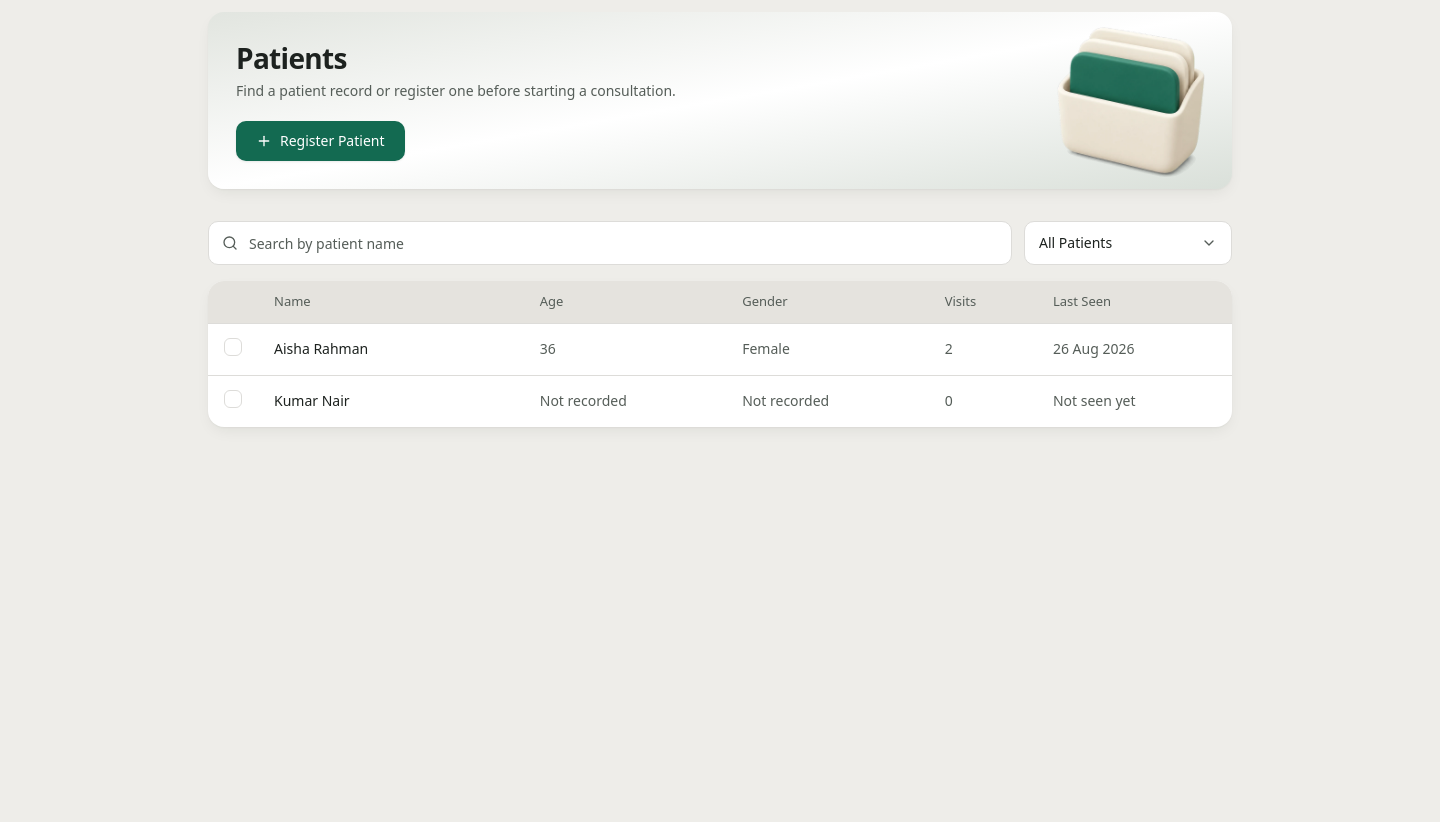
Test: PatientList › supports selecting several patient rows
The width and height of the screenshot is (1440, 822).
Expected: the link "Aisha Rahman" is shown, [274, 339, 368, 359]
Click the checkbox named "Select Aisha Rahman" at [233, 347], box [224, 338, 242, 356]
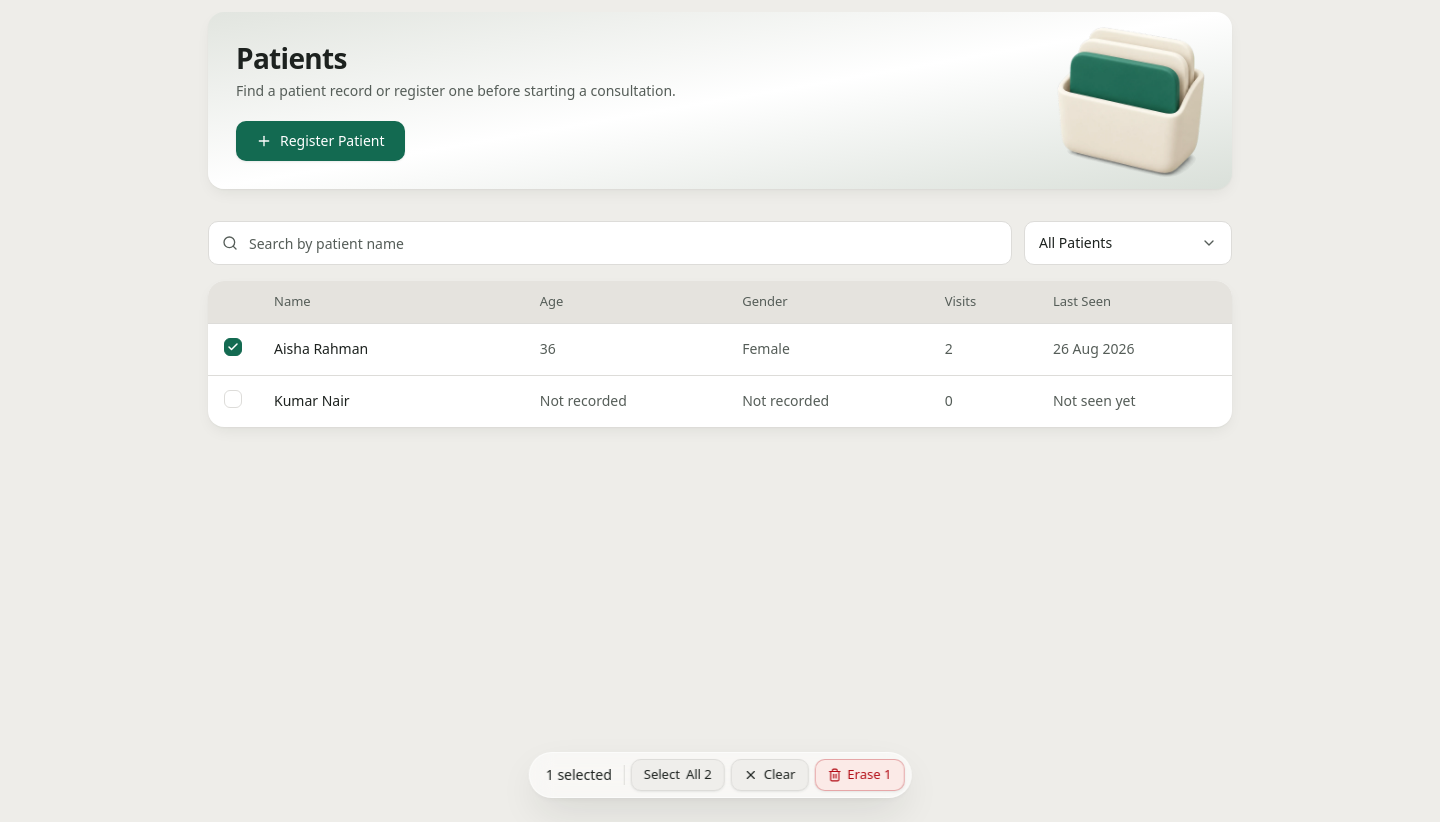
Click the checkbox named "Select Kumar Nair" at [233, 399], box [224, 390, 242, 408]
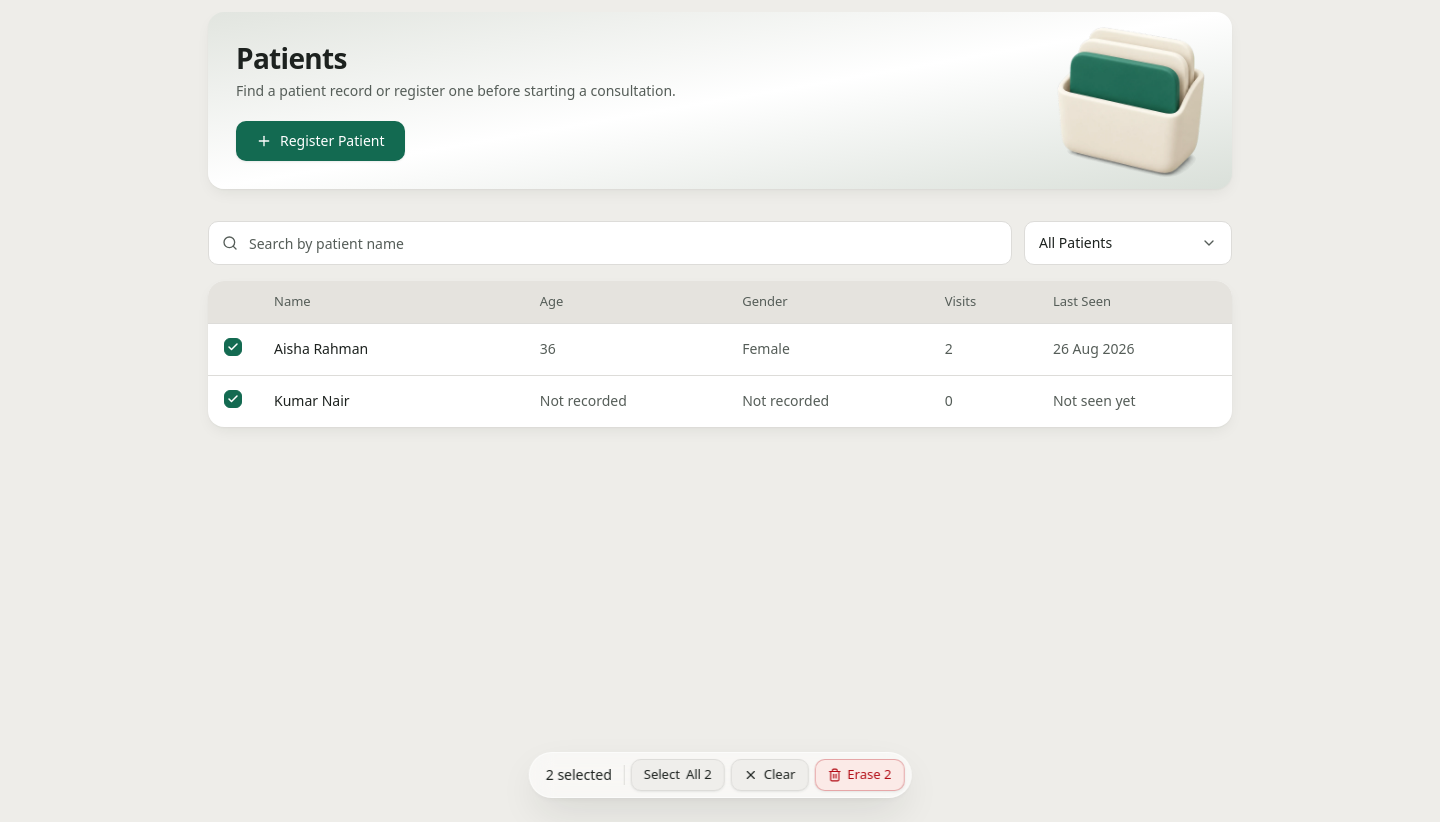
Expected: the text "2 selected" is shown, [546, 765, 612, 785]
Click the button with aria-label "Clear selection" at [770, 775], box [731, 759, 808, 791]
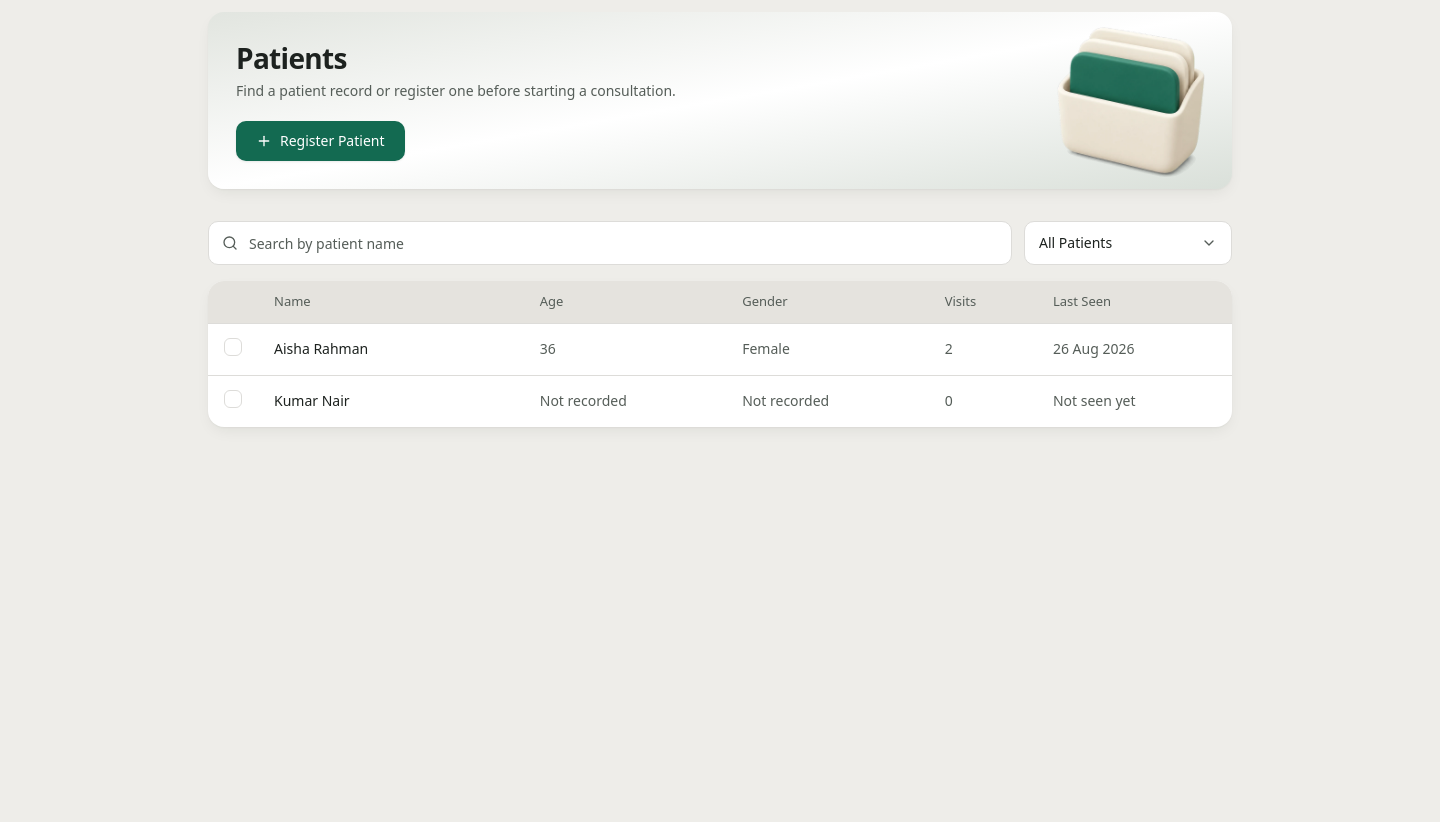
Expected: the checkbox named "Select Aisha Rahman" is not checked, [224, 338, 242, 356]
Expected: the button "Select All" is gone
